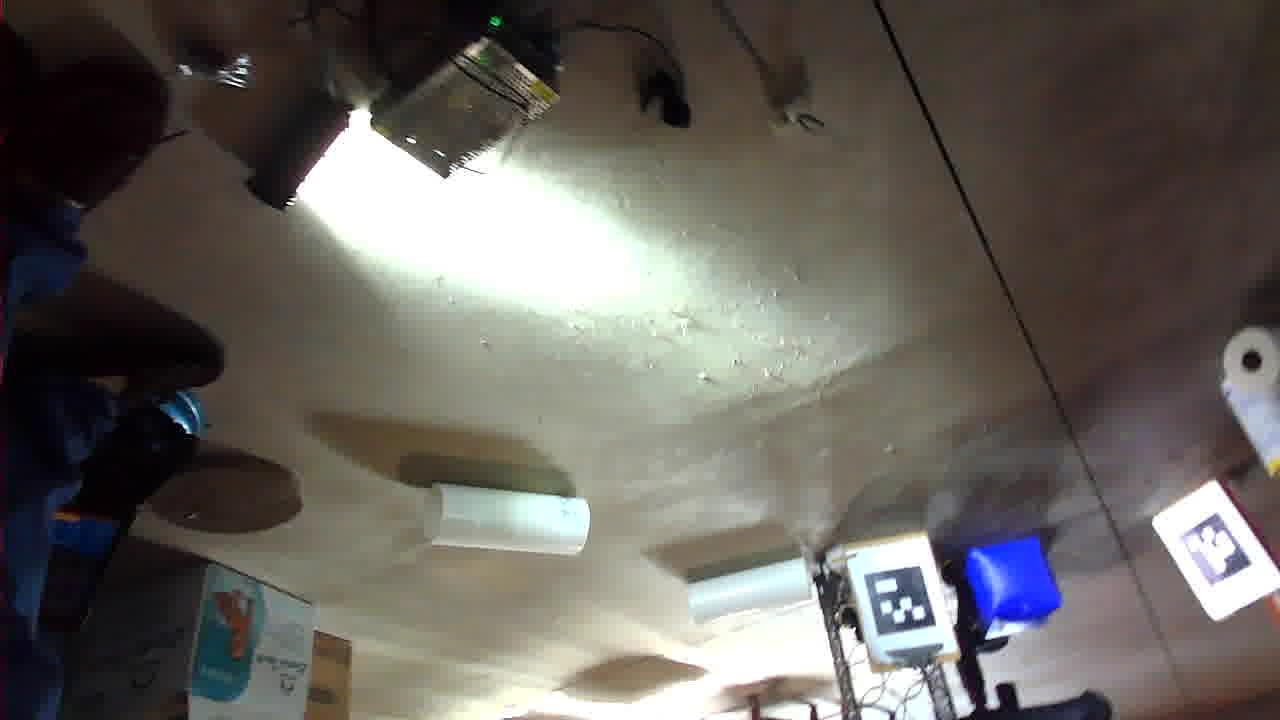coral: (695, 166, 854, 238), (466, 100, 588, 157)
